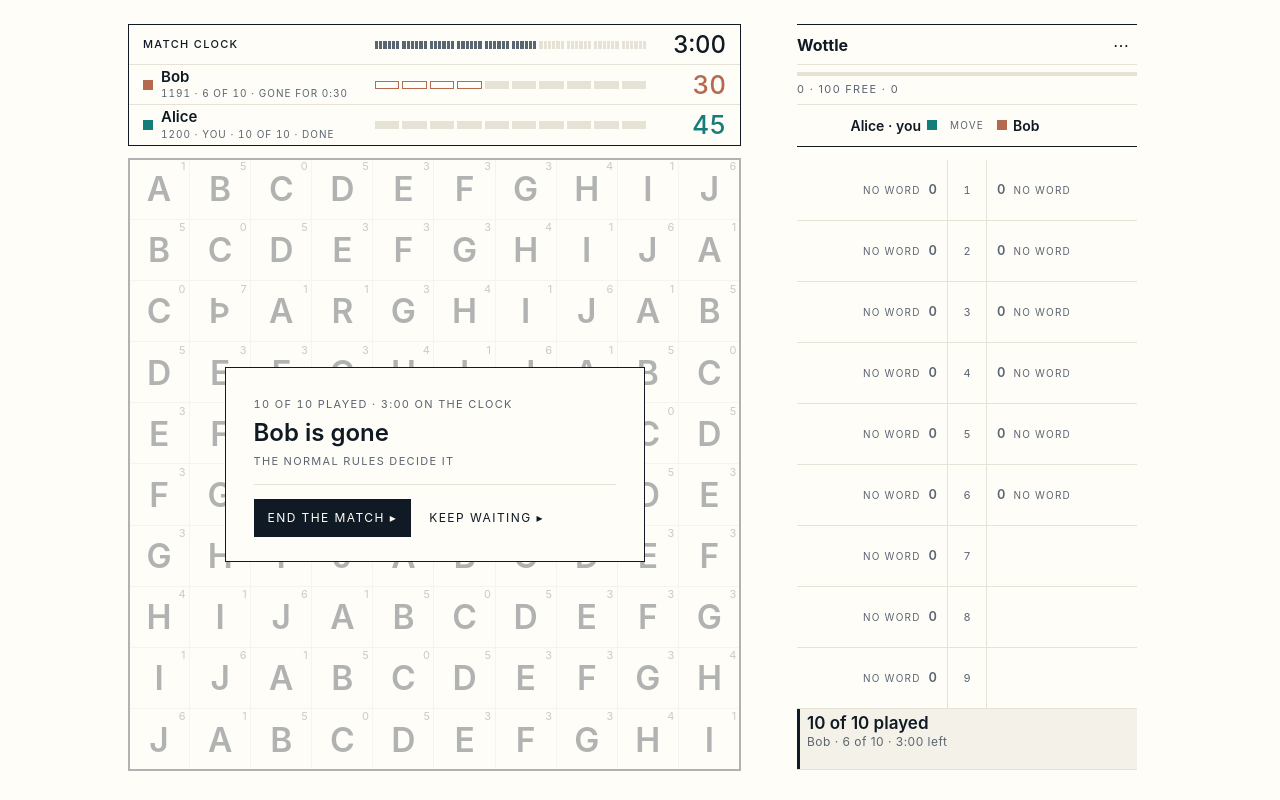
it: the state row's notice on the grid (spec 068) › a refused end early says why in the state row
Click the button with test id "slip-end-early": (332, 518) [254, 499, 411, 537]
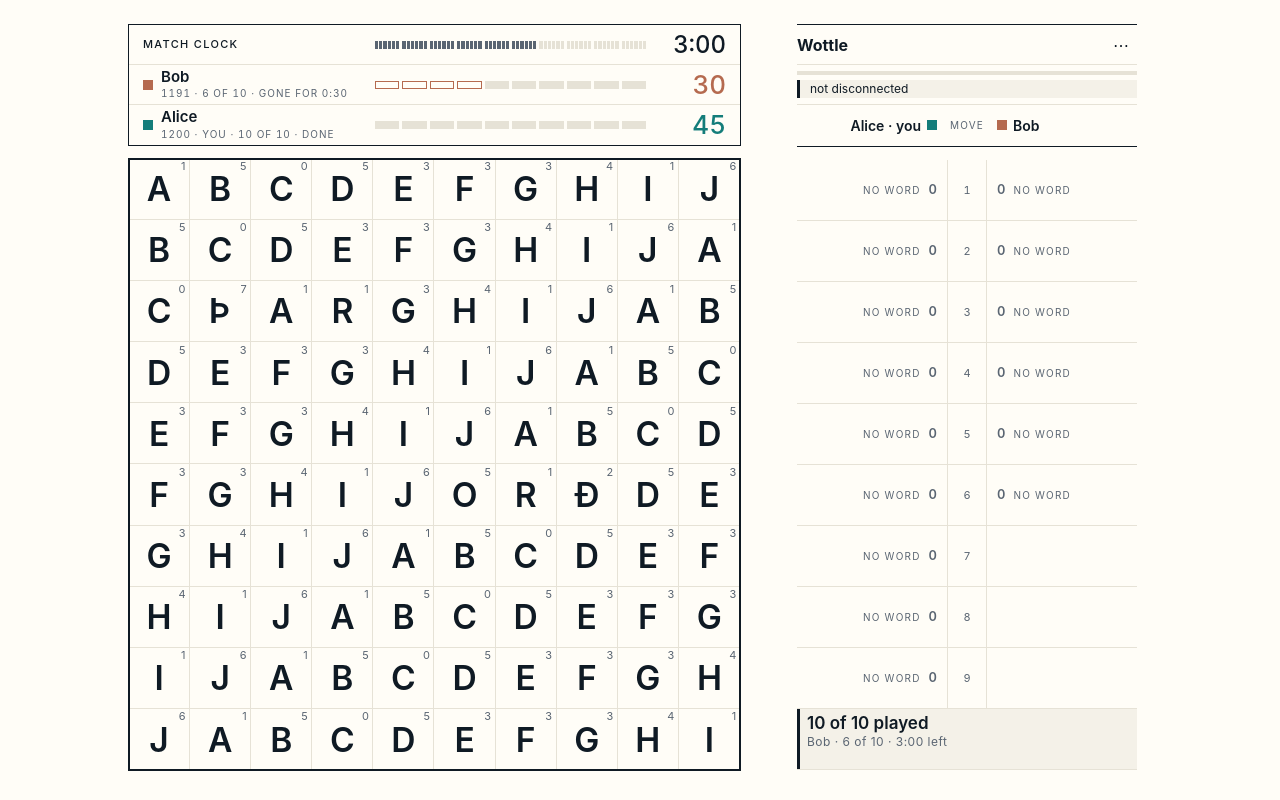
Check: the element with test id "ledger-state-line" reads "not disconnected", box [810, 81, 908, 96]
